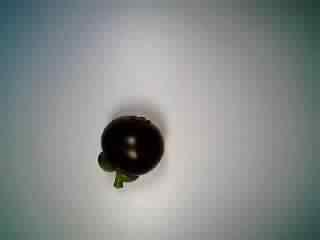mangosteen: (90, 110, 167, 191)
